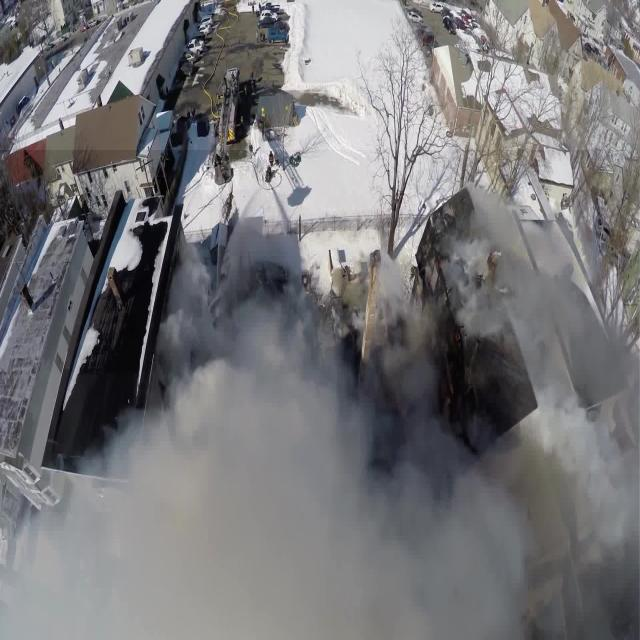Smoke: (0, 150, 639, 640)
